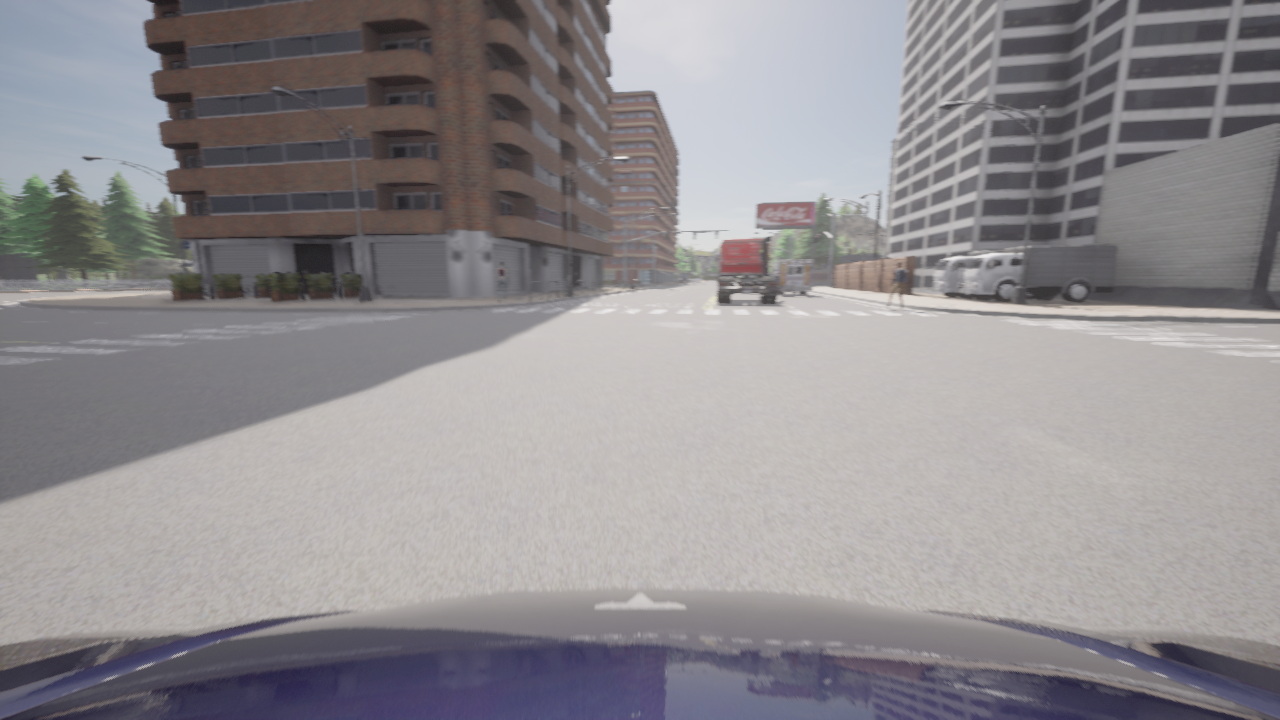cyclist: (0, 588, 1279, 719), (960, 246, 1117, 302), (930, 250, 1033, 299), (714, 236, 778, 304), (770, 260, 812, 295)
pedestrian: (884, 262, 906, 309), (495, 261, 507, 303)
